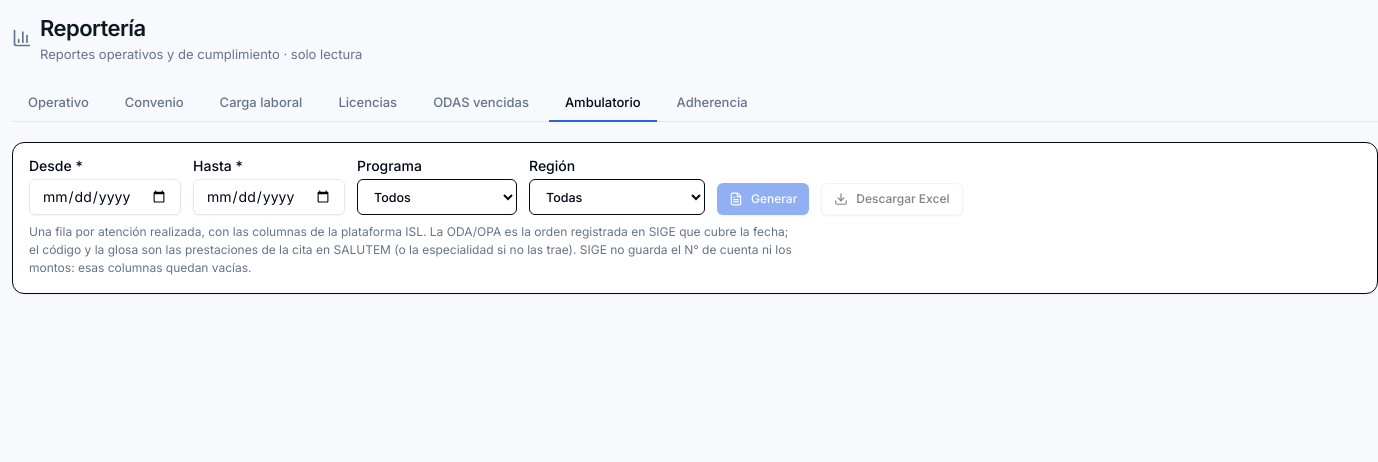
ReportesPage — pestaña Ambulatorio › muestra región, comuna y sus códigos y envía los filtros
In the date field labelled "Desde *": (105, 197) x1=29 y1=179 x2=181 y2=215, type "2031-03-01"
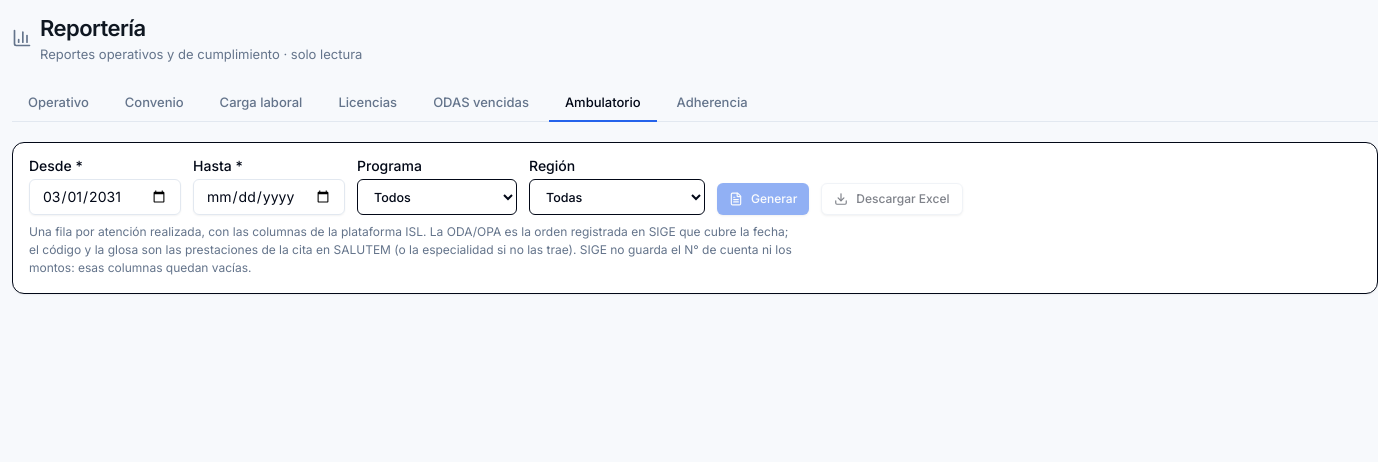
In the date field labelled "Hasta *": (269, 197) x1=193 y1=179 x2=345 y2=215, type "2031-03-31"
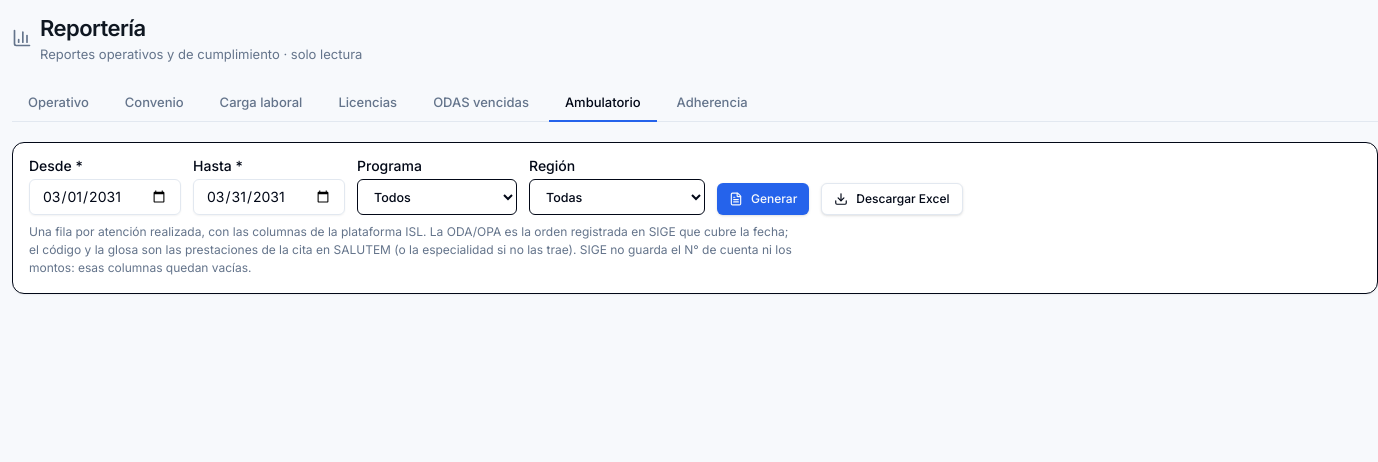
Select "Ley Karin" in the dropdown labelled "Programa": (437, 197) x1=357 y1=179 x2=517 y2=215
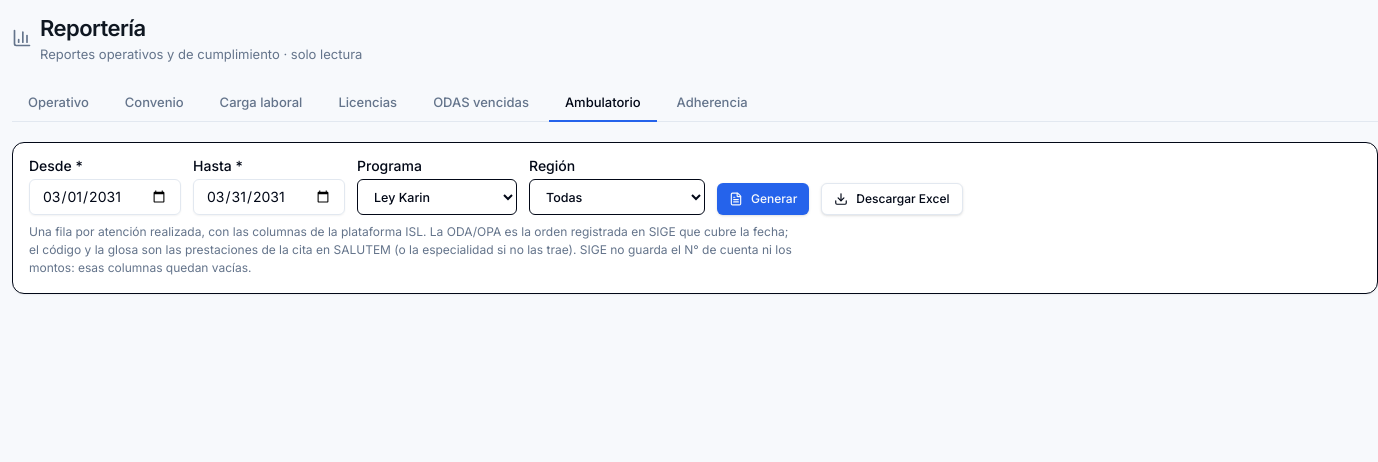
Select "Maule" in the dropdown labelled "Región": (617, 197) x1=529 y1=179 x2=705 y2=215
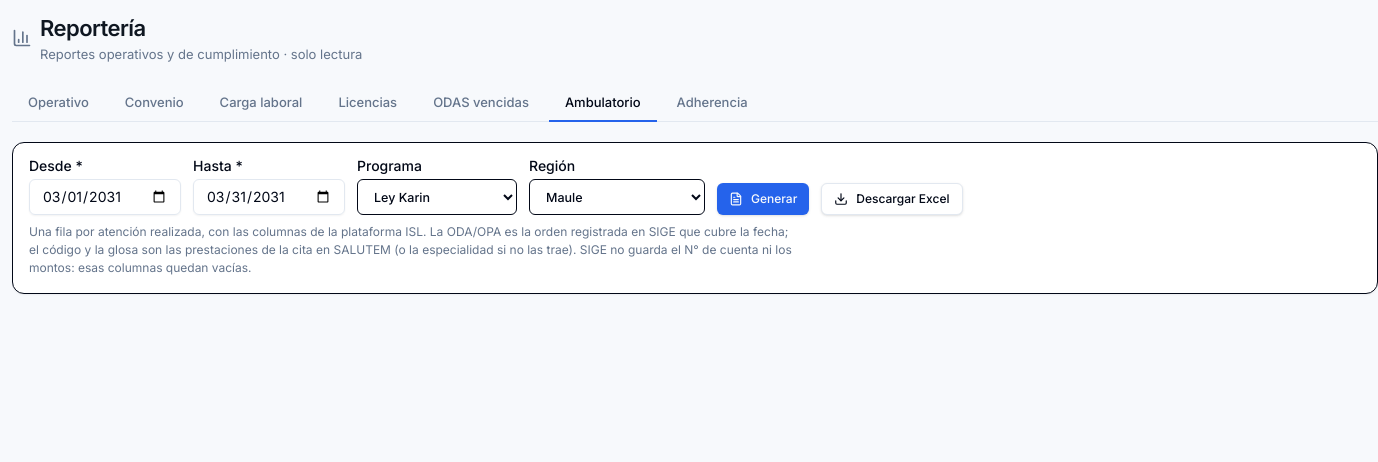
Click the button with test id "btn-generar-reporte": click(763, 199) x1=717 y1=183 x2=809 y2=215
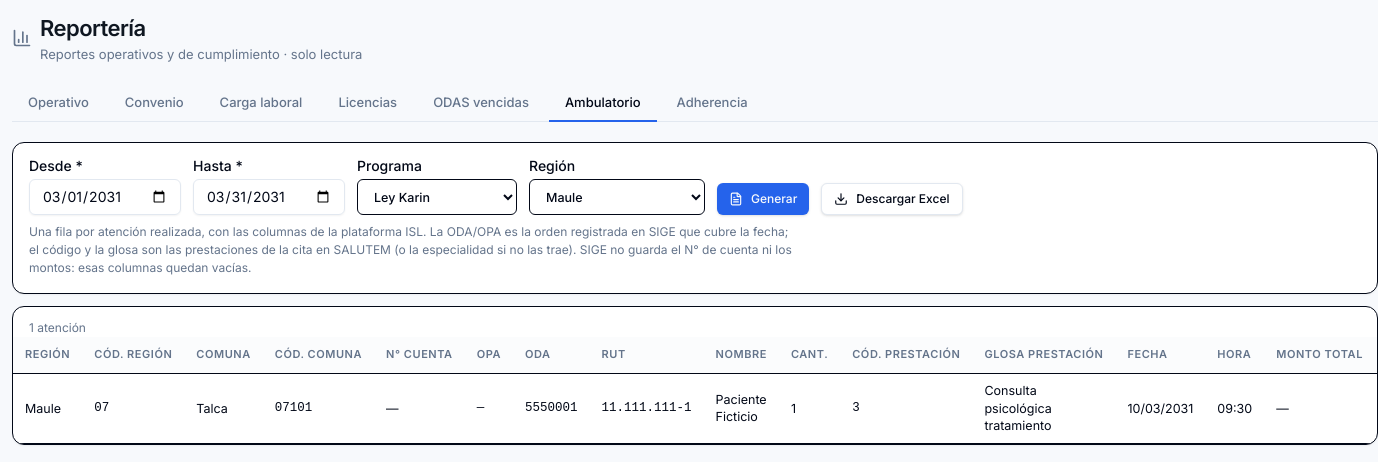
Now the text "Paciente Ficticio" is shown, box x1=704 y1=373 x2=779 y2=444
Now the text "Talca" is shown, box x1=184 y1=373 x2=263 y2=444
Now the text "07" is shown, box x1=82 y1=373 x2=184 y2=444
